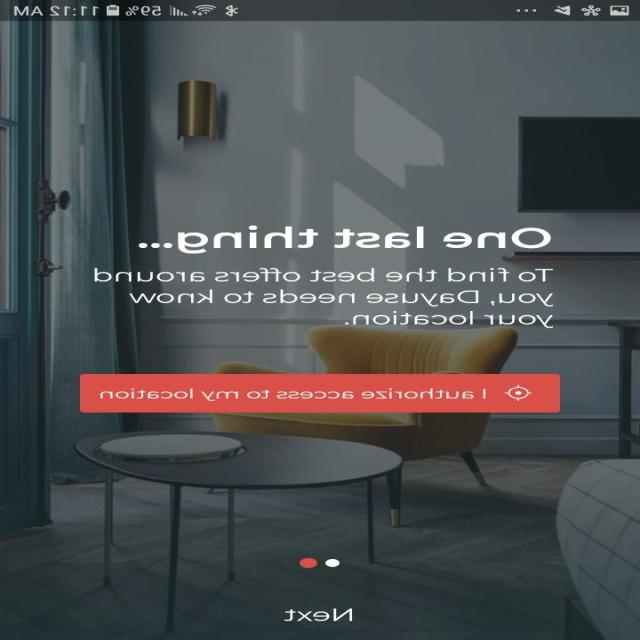BackgroundImage: (1, 21, 640, 640)
Text: (94, 267, 554, 329), (139, 225, 553, 254), (284, 607, 354, 621)
TextButton: (80, 373, 561, 413)
